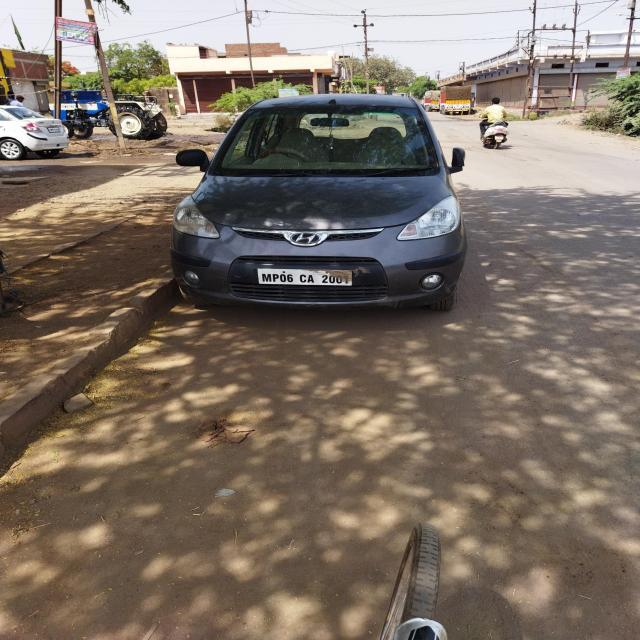plate: (255, 266, 353, 286), (44, 126, 61, 133), (495, 133, 504, 140)
